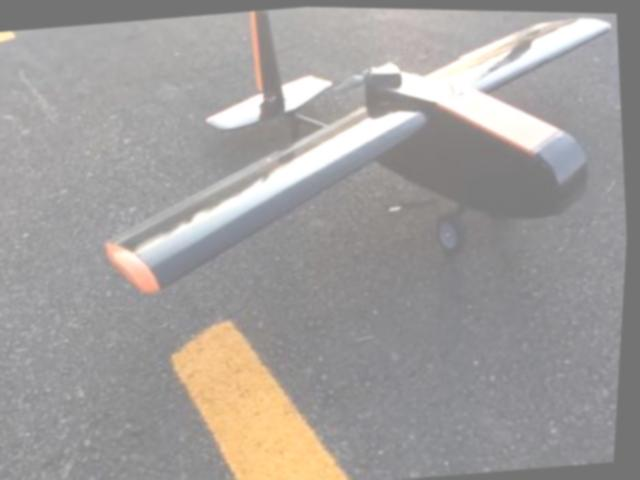uav: (68, 1, 640, 323)
